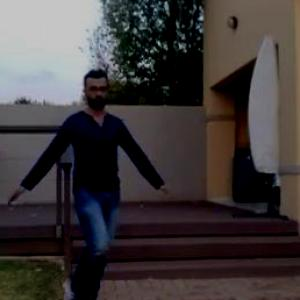land: (8, 72, 161, 299)
